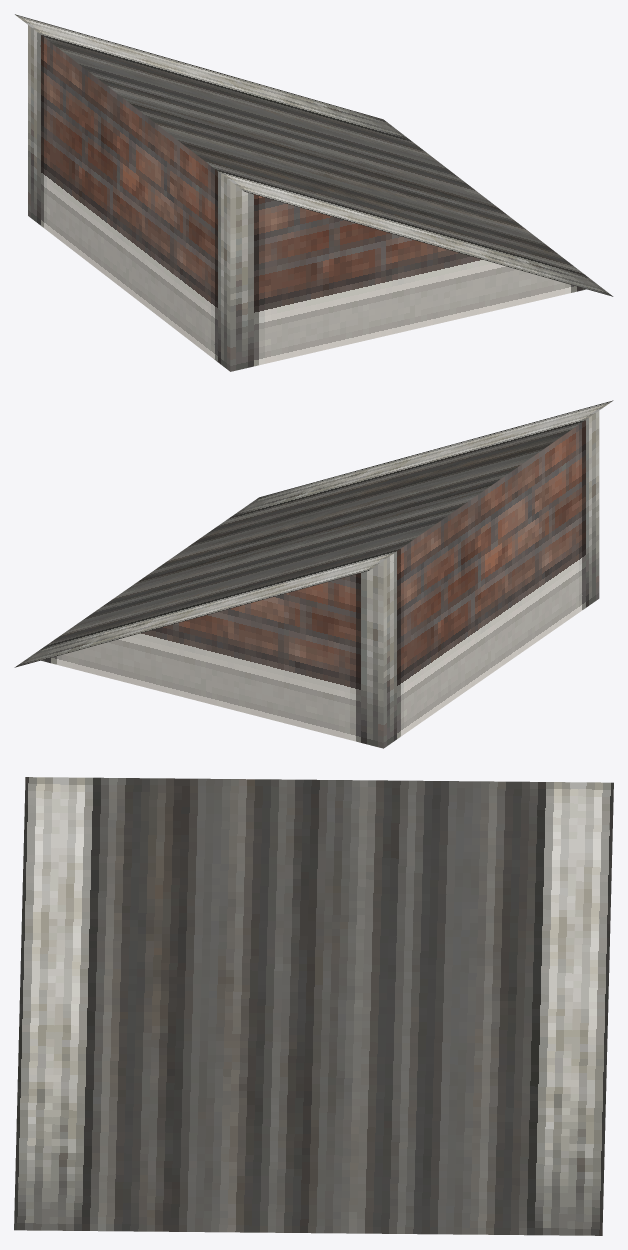
The model's file is wall-a-roof-slant-detailed.001_lev2.glb.
The picture shows the model from 3 angles, top to bottom: view 1: azimuth 30°, elevation 25°; view 2: azimuth 150°, elevation 25°; view 3: azimuth 270°, elevation 25°; orthographic projection. The views are drawn at different scales.
Visible parts, largest first — view 1: wall-a-roof-slant-detailed.001_lev2; view 2: wall-a-roof-slant-detailed.001_lev2; view 3: wall-a-roof-slant-detailed.001_lev2.
Boxes of the visible parts, left/top/right/bottom form: wall-a-roof-slant-detailed.001_lev2: left=15, top=14, right=613, bottom=371; wall-a-roof-slant-detailed.001_lev2: left=14, top=400, right=613, bottom=748; wall-a-roof-slant-detailed.001_lev2: left=14, top=777, right=613, bottom=1235.
Size of the model in its own units: 5.58 by 2.72 by 6.31.
3 materials, 3 textured.
